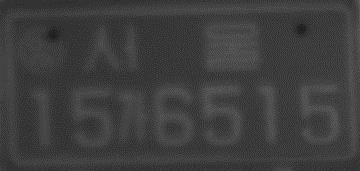1: (27, 82, 58, 151), (253, 81, 284, 149)
5: (197, 82, 244, 149), (69, 83, 115, 149), (297, 81, 342, 148)
6: (154, 84, 195, 151)
가: (114, 87, 152, 148)
서울_D: (80, 19, 261, 84)
영: (19, 23, 68, 76)
